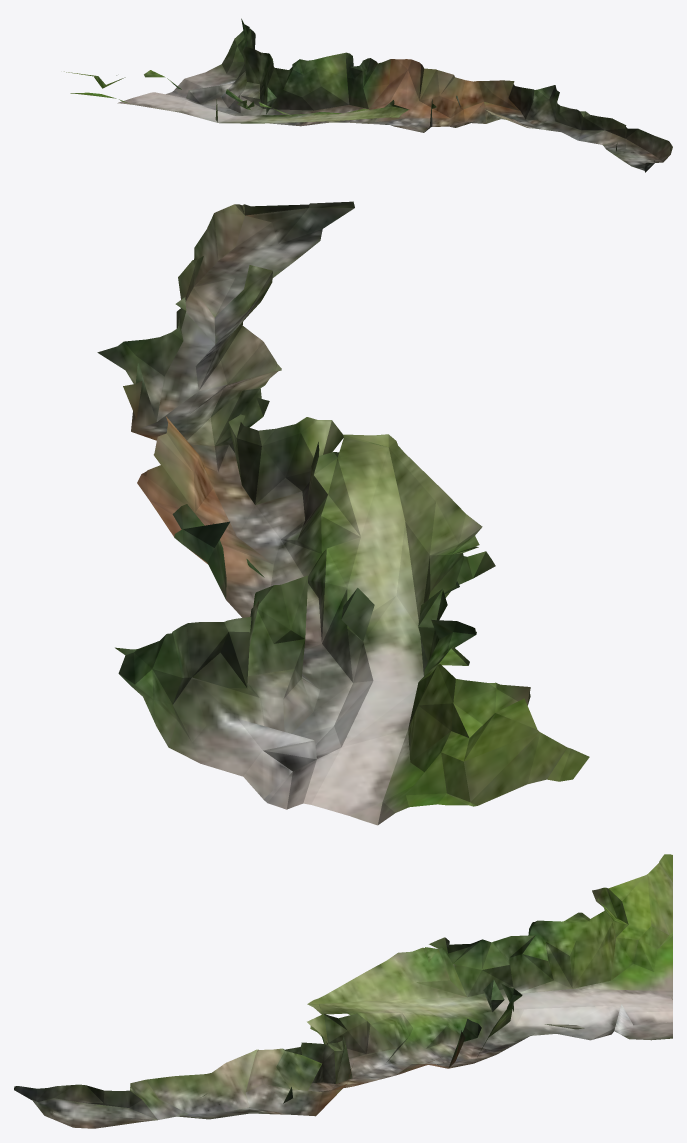
The picture shows the model from 3 angles, top to bottom: view 1: azimuth 30°, elevation 25°; view 2: azimuth 150°, elevation 25°; view 3: azimuth 270°, elevation 25°; orthographic projection. The views are drawn at different scales.
Size of the model in its own units: 88.35 by 12.07 by 94.22.
Materials: 1 (1 with a texture image).
